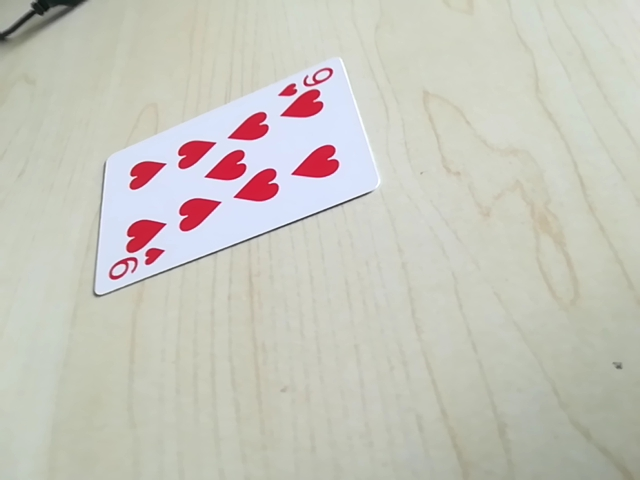hx 9: (103, 248, 167, 286), (275, 66, 341, 99)
